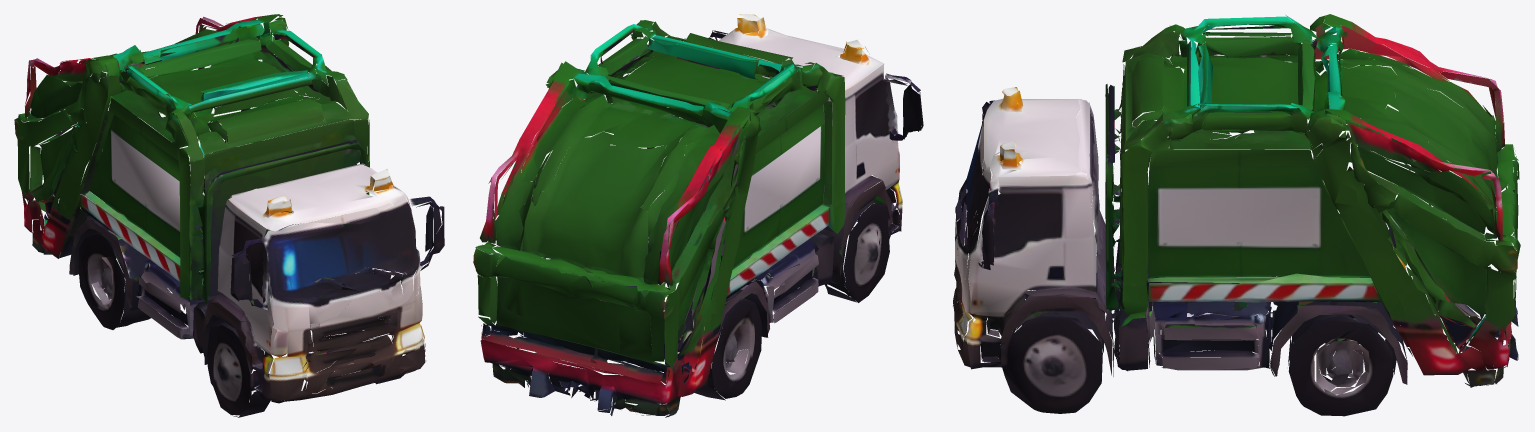
File: h3-garbage-truck.glb
3 renders of one model, left to right at view 1: azimuth 30°, elevation 25°; view 2: azimuth 150°, elevation 25°; view 3: azimuth 270°, elevation 25°, orthographic. The views are drawn at different scales.
Parts seen in each view (by area): view 1: tmpb6pija9_.ply; view 2: tmpb6pija9_.ply; view 3: tmpb6pija9_.ply.
Boxes of the visible parts, x1,y1,x2,y2 form: tmpb6pija9_.ply: (14,14,444,417); tmpb6pija9_.ply: (473,14,923,417); tmpb6pija9_.ply: (953,14,1520,416).
Bounding box in the file's own units: 0.9855 × 1.22 × 2.
Materials: 1 (1 with a texture image).
